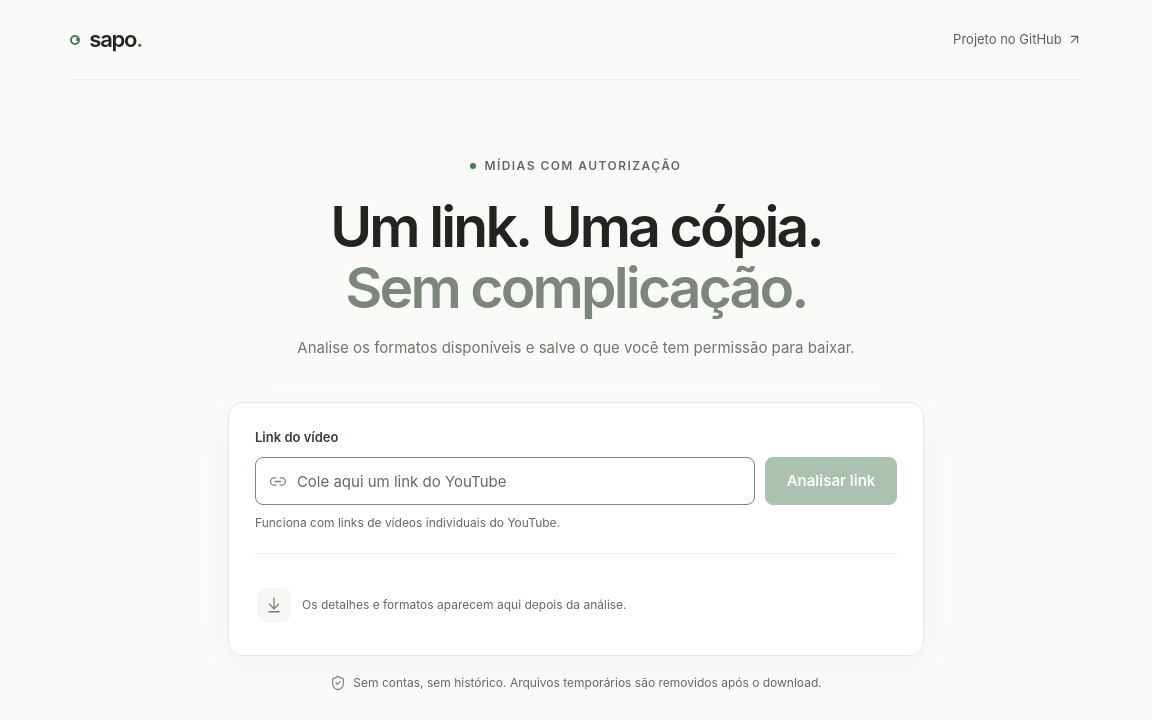
it: Sapo Downloader › exibe os detalhes de um link válido e exige autorização antes do download
The width and height of the screenshot is (1152, 720).
In the field labelled "Link do vídeo": (519, 481) top-left (297, 458), bottom-right (741, 504), type "https://youtu.be/abcdefghijk"
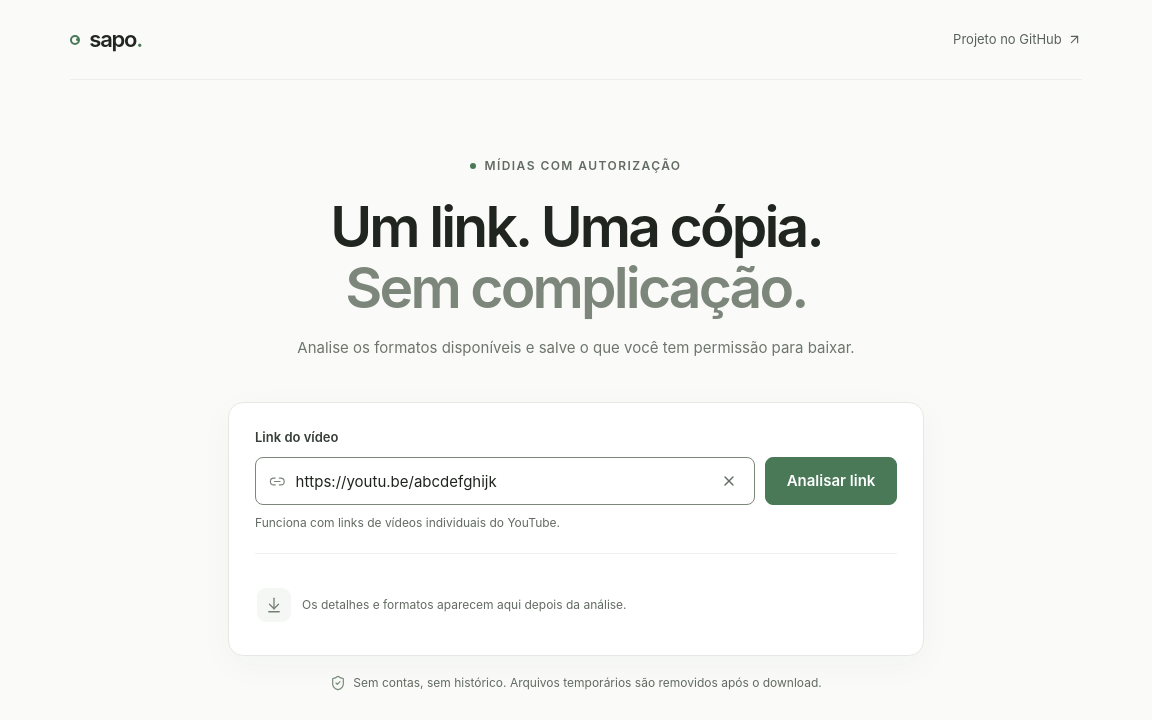
Click the button "Analisar link": (831, 481) top-left (765, 457), bottom-right (897, 505)
(page scrolled)
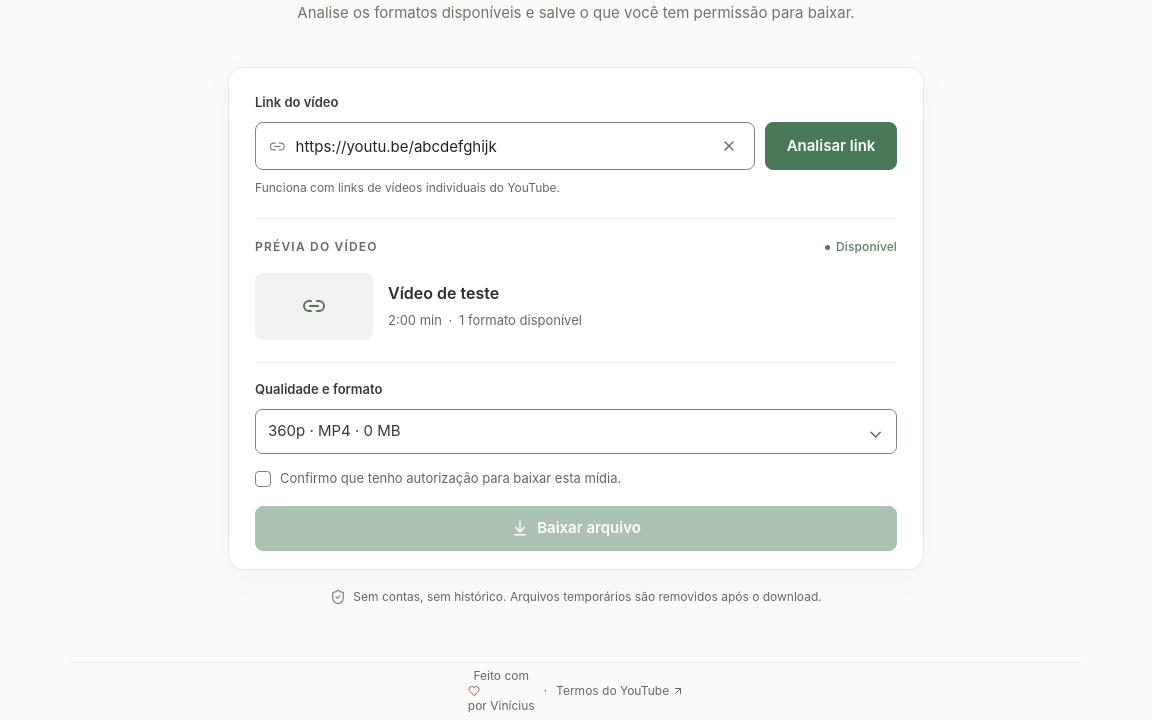
Expected: the heading "Vídeo de teste" is shown, top-left (388, 283), bottom-right (499, 303)
Expected: the button "Baixar arquivo" is disabled, top-left (255, 506), bottom-right (897, 550)
Click the checkbox labelled "Confirmo que tenho autorização para baixar esta mídia.": (438, 478) top-left (255, 470), bottom-right (621, 487)
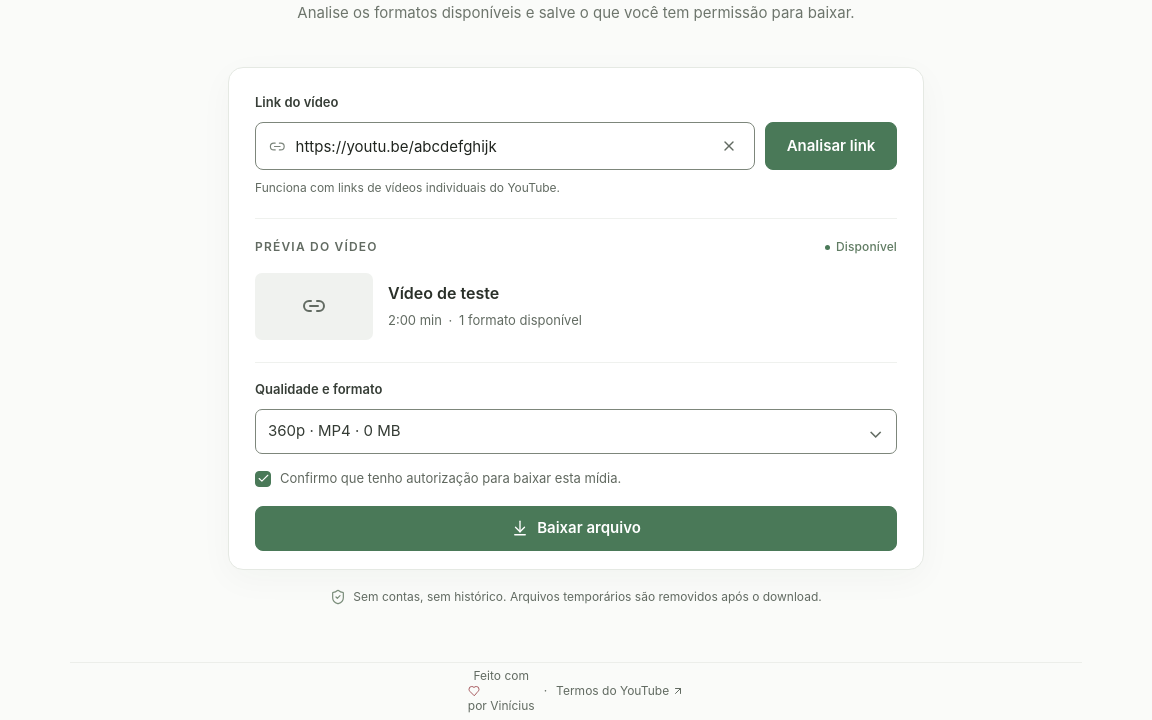
Expected: the button "Baixar arquivo" is enabled, top-left (255, 506), bottom-right (897, 550)
